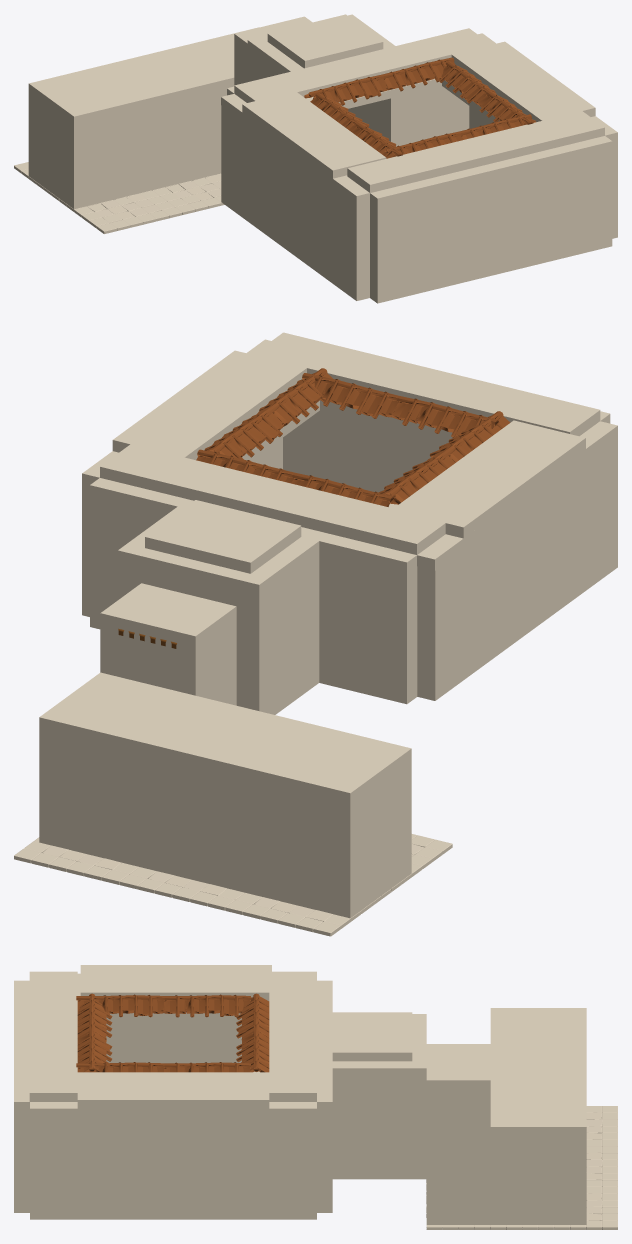
The model's file is Room.fbx.
3 renders of one model, top to bottom at view 1: azimuth 30°, elevation 25°; view 2: azimuth 150°, elevation 25°; view 3: azimuth 270°, elevation 25°, orthographic. The views are drawn at different scales.
Parts seen in each view (by area): view 1: Floor.004; view 2: Floor.004; view 3: Floor.004.
Boxes of the visible parts, x1,y1,x2,y2 form: Floor.004: [14, 14, 617, 303]; Floor.004: [14, 332, 617, 936]; Floor.004: [14, 965, 617, 1229].
Bounding box in the file's own units: 1882 × 943 × 2850.
